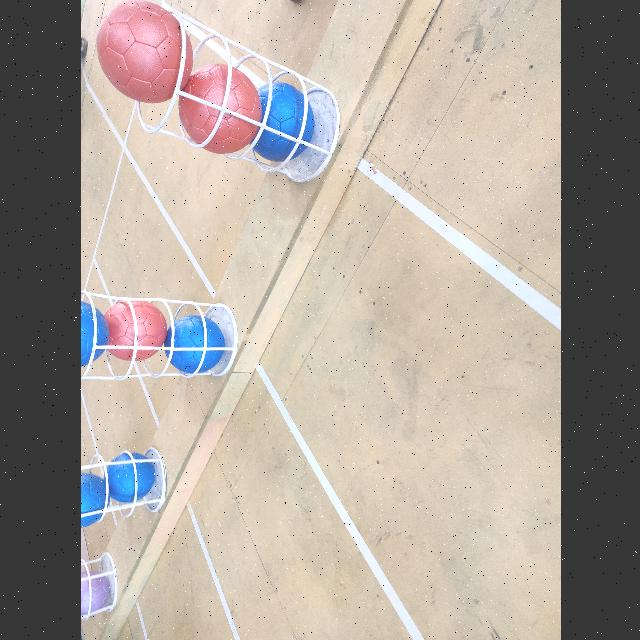B: (258, 82, 312, 162), (166, 317, 224, 375), (103, 452, 155, 504), (80, 298, 106, 369), (80, 472, 108, 530)
R: (96, 0, 192, 104), (178, 64, 256, 154), (102, 298, 166, 362)
